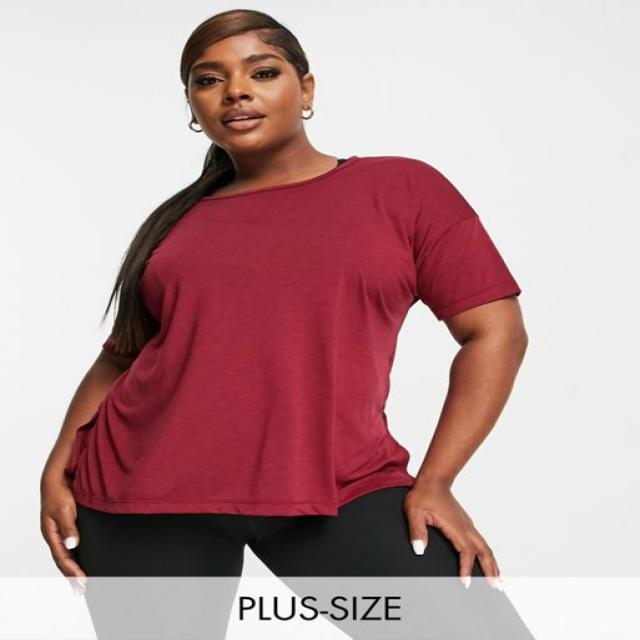tshirt: (66, 152, 519, 517)
